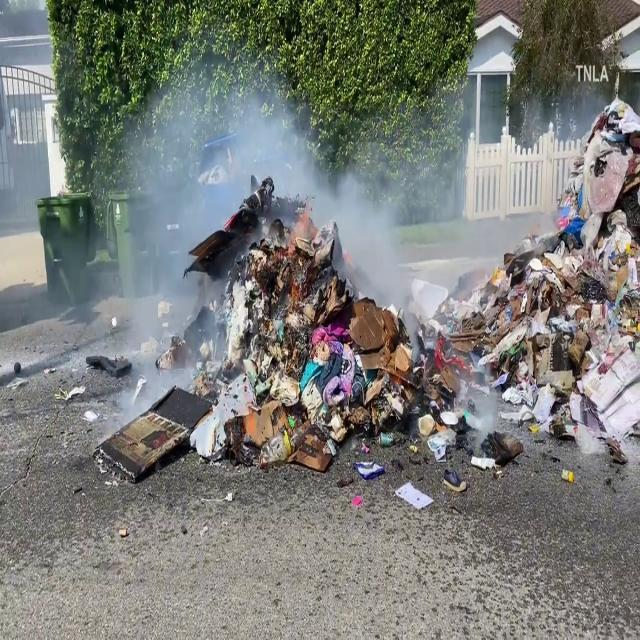Smoke: (238, 105, 548, 320), (106, 65, 208, 396)
